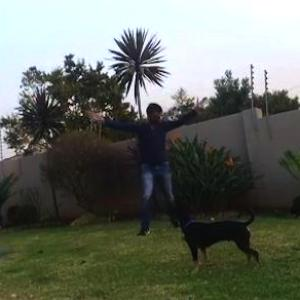takeoff: (90, 101, 208, 224)
